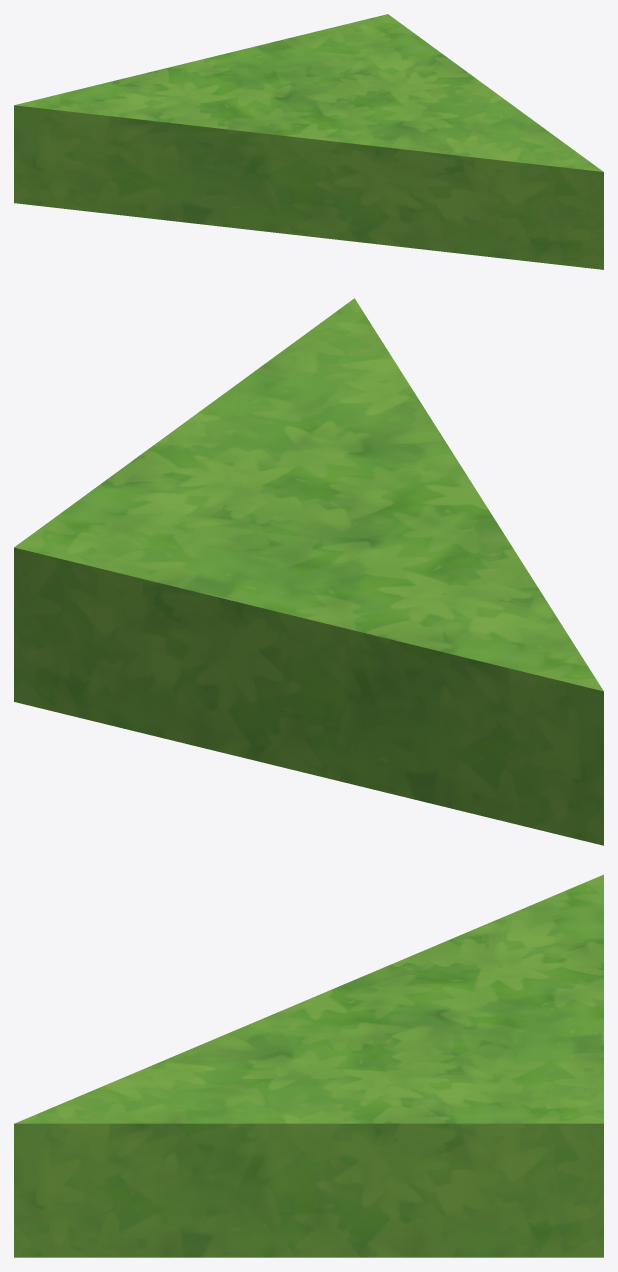
File: AngleTile_1x1x1.fbx
3 renders of one model, top to bottom at view 1: azimuth 30°, elevation 25°; view 2: azimuth 150°, elevation 25°; view 3: azimuth 270°, elevation 25°, orthographic. The views are drawn at different scales.
Visible parts, largest first — view 1: Cube; view 2: Cube; view 3: Cube.
Boxes of the visible parts, x1,y1,x2,y2 form: Cube: (14,14,603,269); Cube: (14,298,603,845); Cube: (14,874,603,1257).
Bounding box in the file's own units: 2 × 2 × 0.5.
